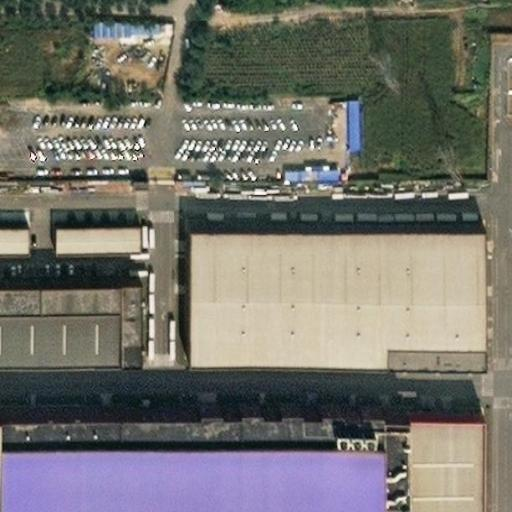building: (181, 211, 476, 344), (402, 407, 483, 512), (42, 212, 127, 240), (90, 17, 171, 38), (282, 162, 342, 182), (344, 97, 363, 151)
